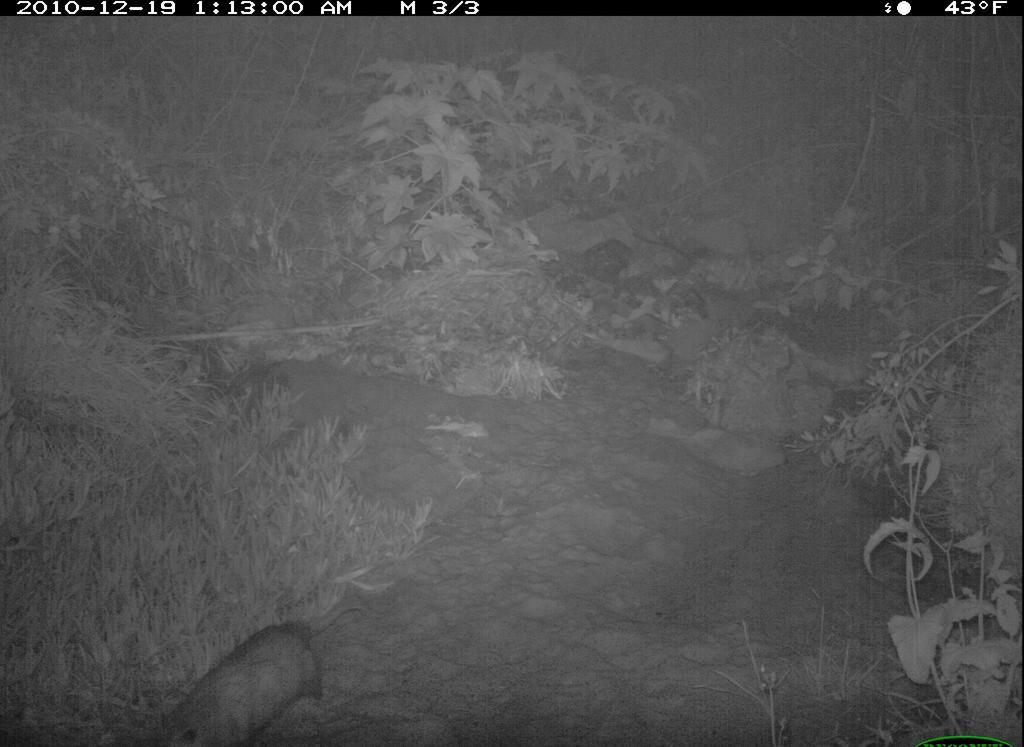opossum: (139, 593, 379, 747)
